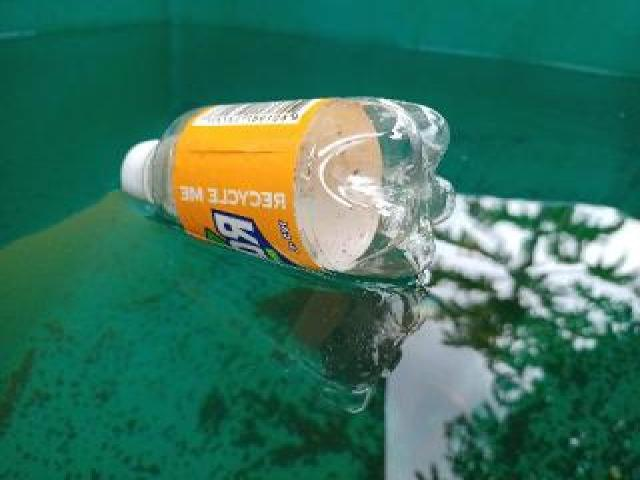Bottle: (106, 92, 465, 292)
